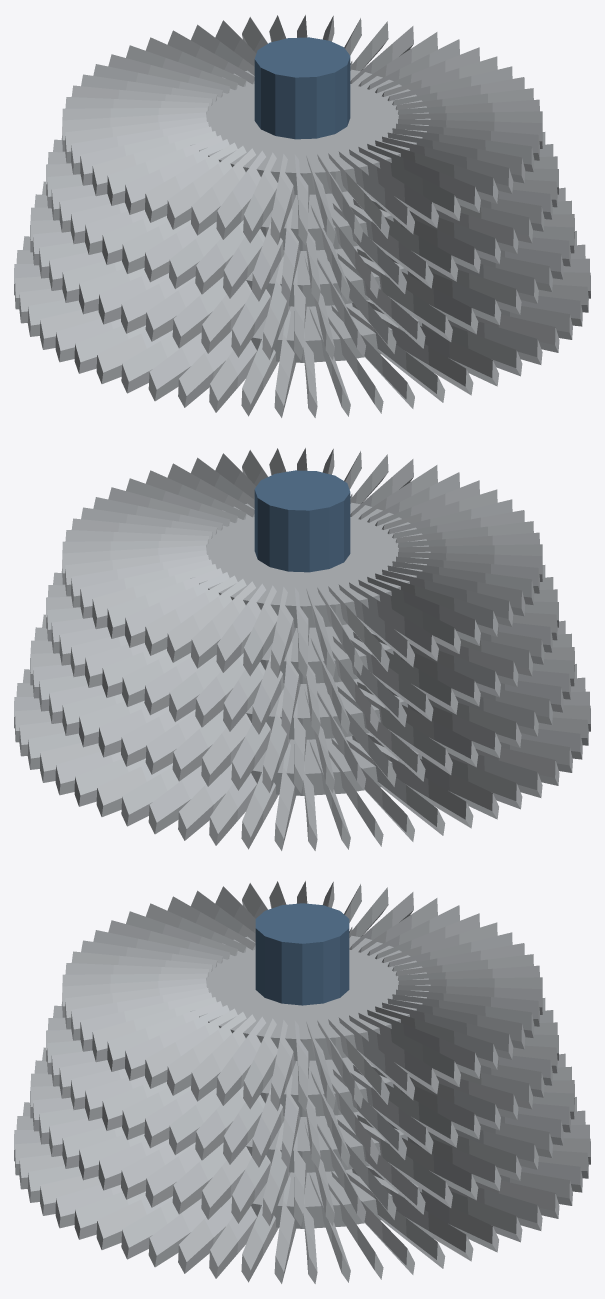
File: turbinerotor_basic.glb
3 renders of one model, top to bottom at view 1: azimuth 30°, elevation 25°; view 2: azimuth 150°, elevation 25°; view 3: azimuth 270°, elevation 25°, orthographic.
Visible parts, largest first — view 1: turbinerotor_basic; view 2: turbinerotor_basic; view 3: turbinerotor_basic.
Boxes of the visible parts, left/top/right/bottom form: turbinerotor_basic: left=14, top=15, right=590, bottom=417; turbinerotor_basic: left=14, top=448, right=590, bottom=850; turbinerotor_basic: left=14, top=881, right=590, bottom=1283.
Size of the model in its own units: 0.288 by 0.152 by 0.288.
